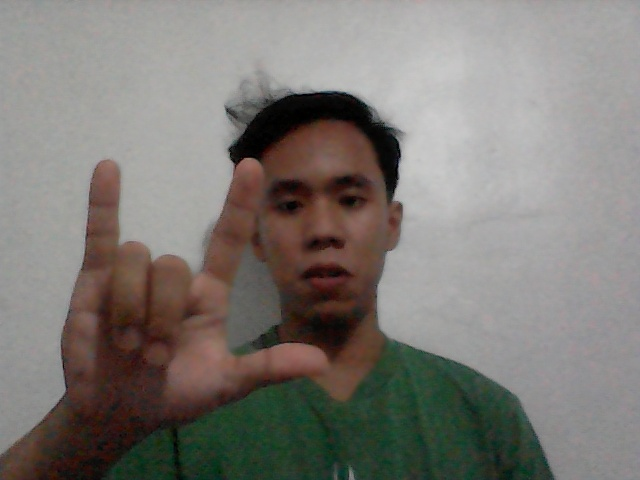I Love You: (33, 144, 336, 461)
